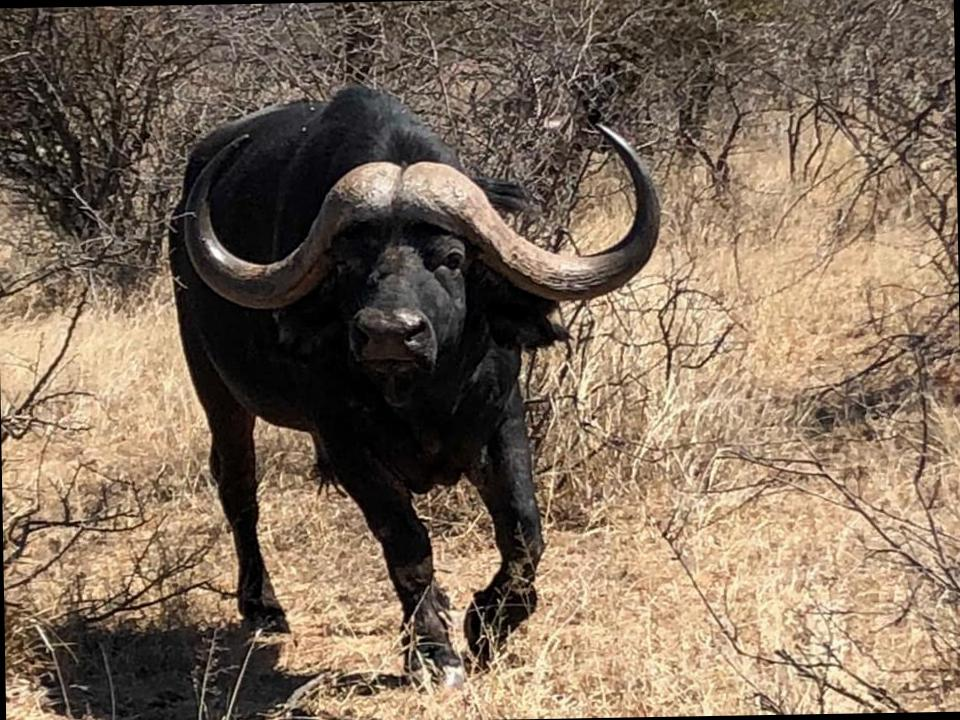Buffalo: (94, 32, 734, 720)
